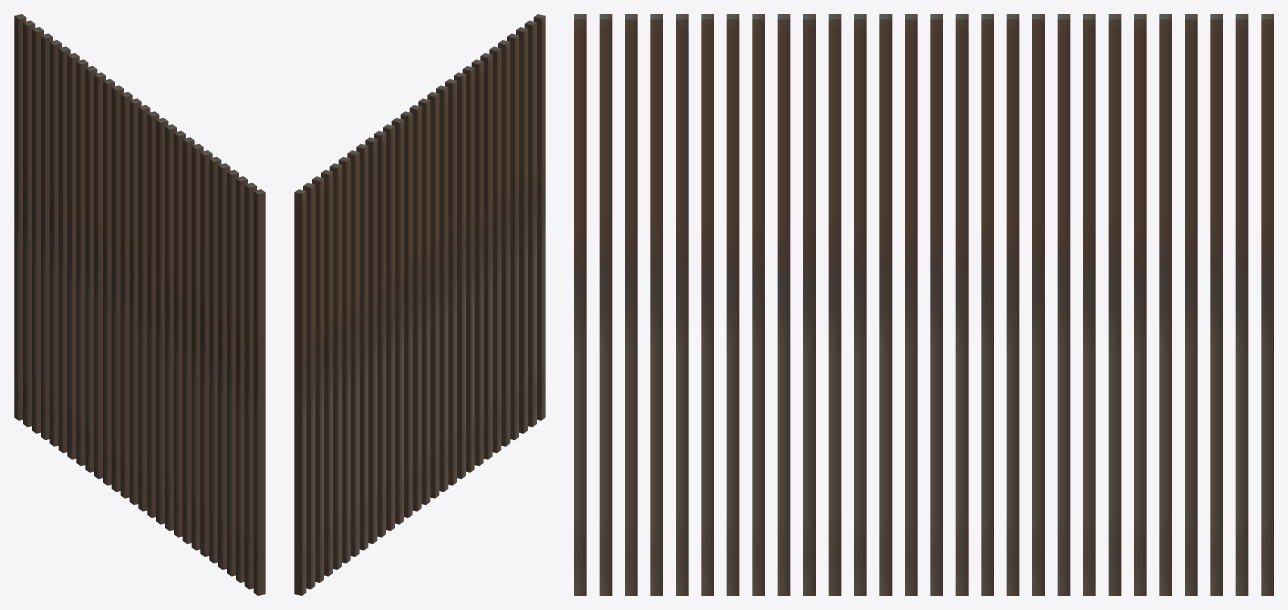
The model's file is StickPanel_01.fbx.
3 renders of one model, left to right at view 1: azimuth 30°, elevation 25°; view 2: azimuth 150°, elevation 25°; view 3: azimuth 270°, elevation 25°, orthographic. The views are drawn at different scales.
Parts seen in each view (by area): view 1: StickPanel_01; view 2: StickPanel_01; view 3: StickPanel_01.
Part boxes in pixels (x1=…): StickPanel_01: x1=14, y1=14, x2=265, y2=595; StickPanel_01: x1=294, y1=14, x2=545, y2=595; StickPanel_01: x1=574, y1=14, x2=1273, y2=595.
Bounding box in the file's own units: 5 × 275 × 250.
Materials: 1 (1 with a texture image).
